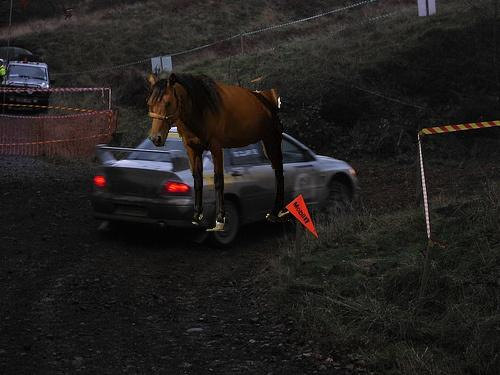tampered: (147, 74, 289, 231)
